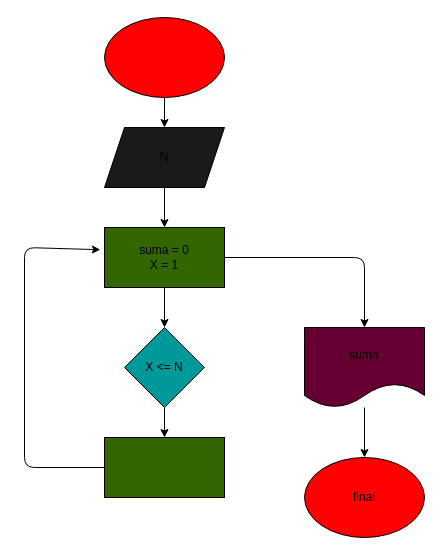
The diagram is 442 pixels wide and 555 high, and some of its shapes have lost their labels. Each missing label, with the box of its shape:
inicio: (104, 16, 224, 98)
suma = suma + X X = X + 1: (104, 436, 224, 498)
